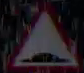Speed Breaker ahead: (6, 5, 81, 72)
